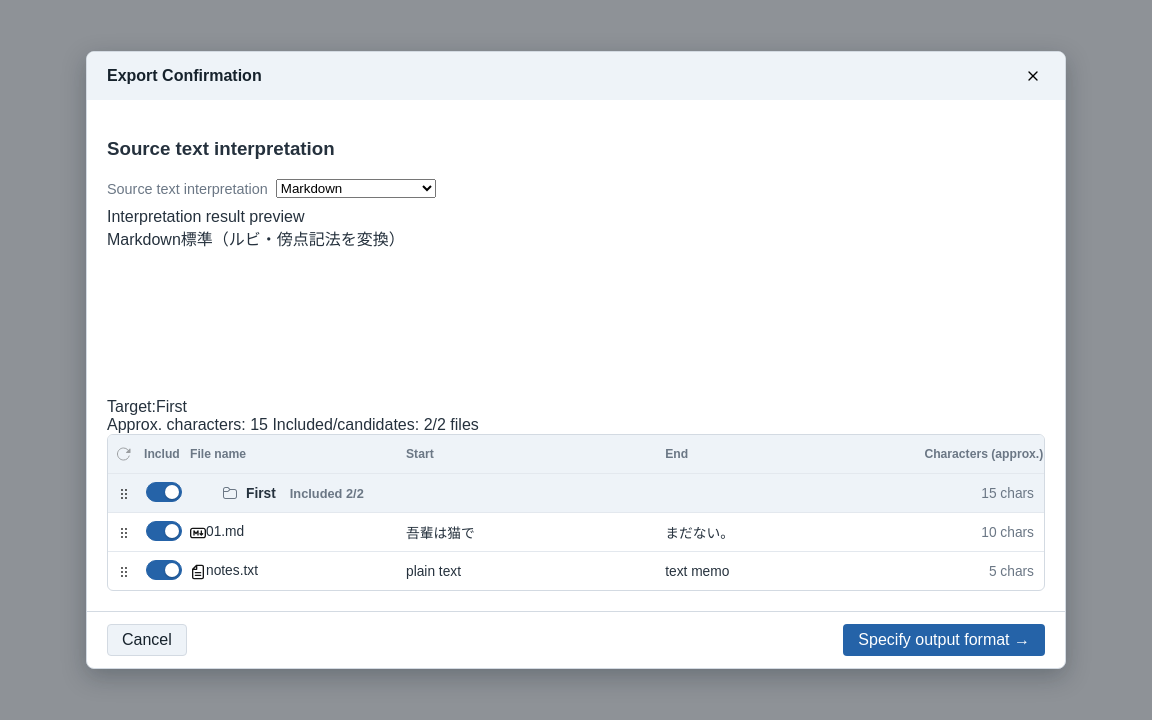
ExportConfirmationDialog (#523) › verifies all Slice 10 UI polish specifications
The width and height of the screenshot is (1152, 720).
Expected: the button named "Reload" is disabled, [112,442,136,466]
Click the checkbox named "Include 01.md" at (164, 531), box [144,520,184,542]
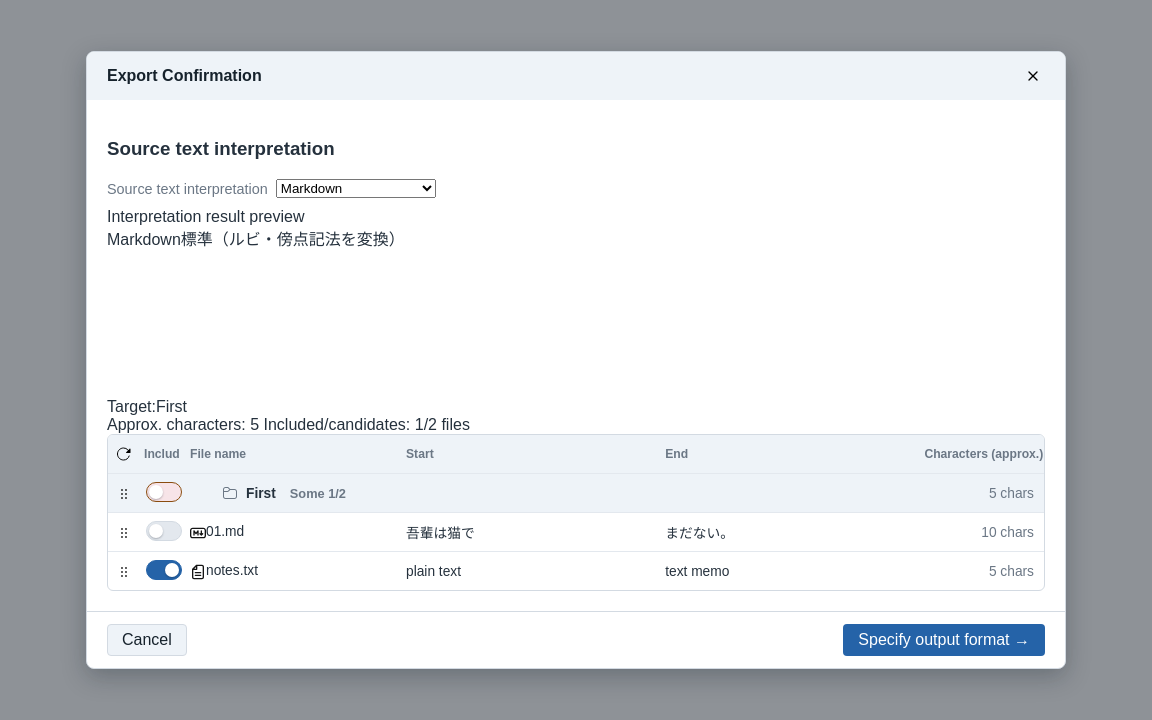
Expected: the element with class "exportWizardContainer" is shown, [107,120,1045,591]
Expected: the button named "Reload" is enabled, [112,442,136,466]
Click the button "Specify output format →" at (944, 640), box [843,624,1045,656]
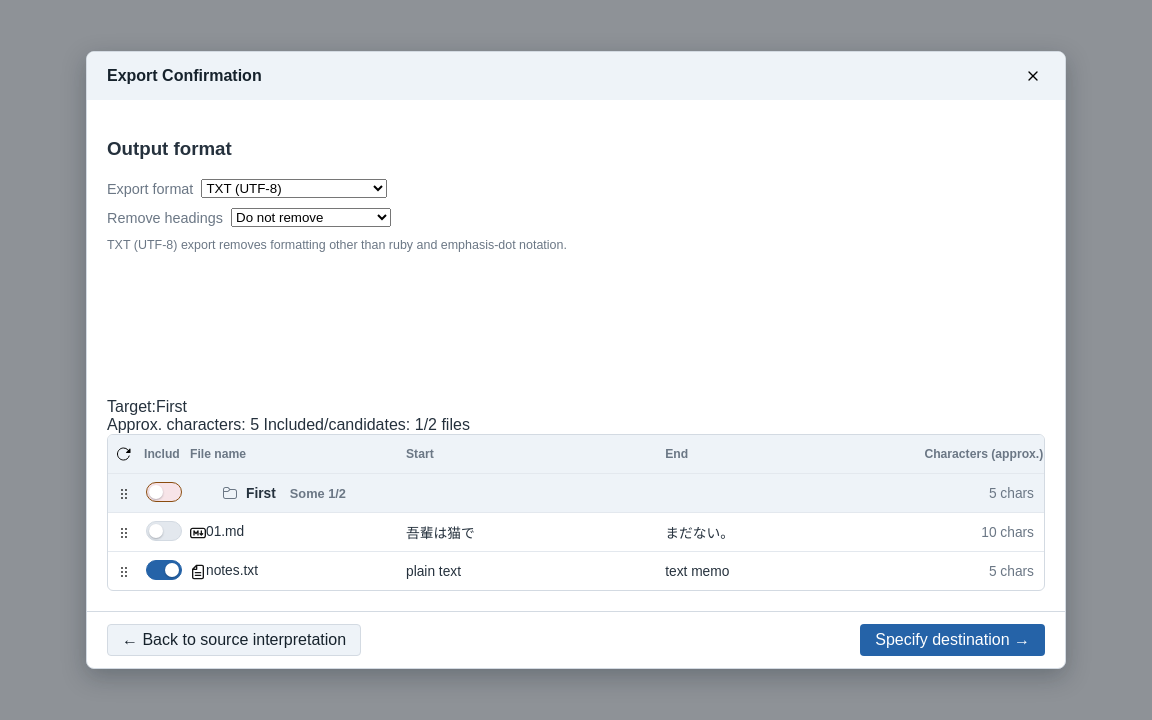
Expected: the element with class "exportConfirmationDialogFooterLeft" reads "← Back to source interpretation", [107,624,361,656]
Expected: the element with class "appDialogActions" reads "Specify destination →"
Expected: the button with class "exportConfirmationDialogFooterLeft" no longer shows "Cancel"
Click the button "Specify destination →" at (953, 640), box [860,624,1045,656]
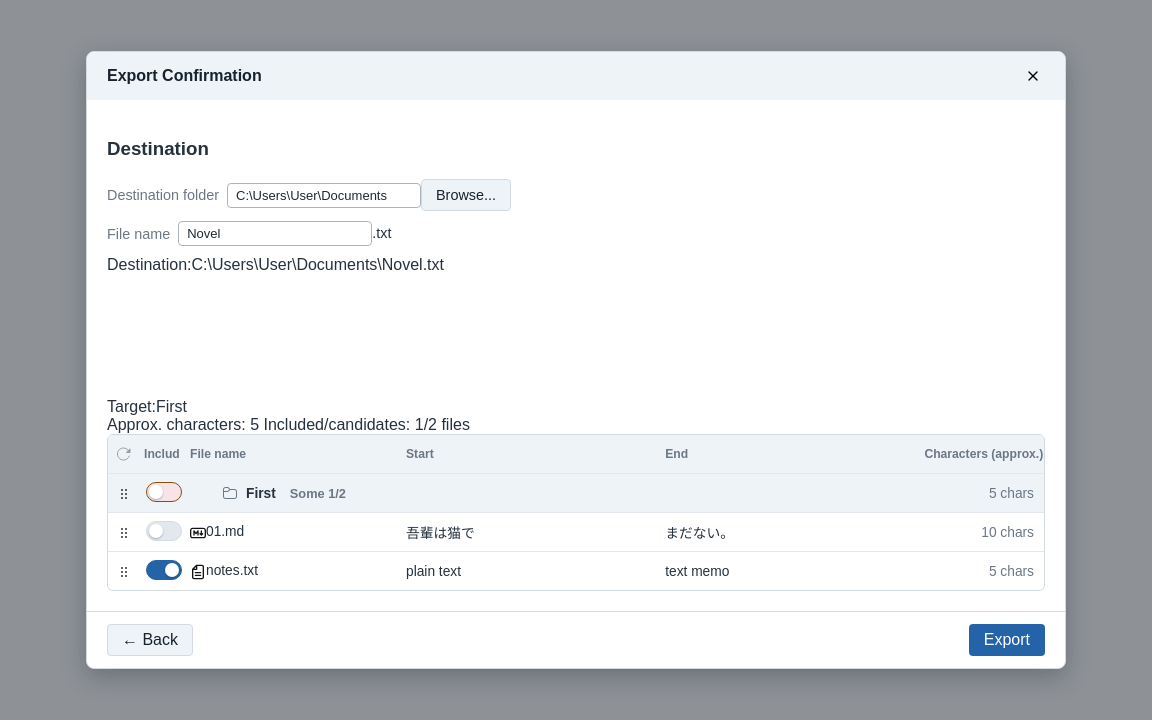
Expected: the button with class "exportConfirmationDialogFooterLeft" does not show "Cancel"
Expected: the element with class "exportConfirmationDialogFooterLeft" reads "← Back", [107,624,193,656]
Expected: the element with class "appDialogActions" reads "Export", [969,624,1045,656]
